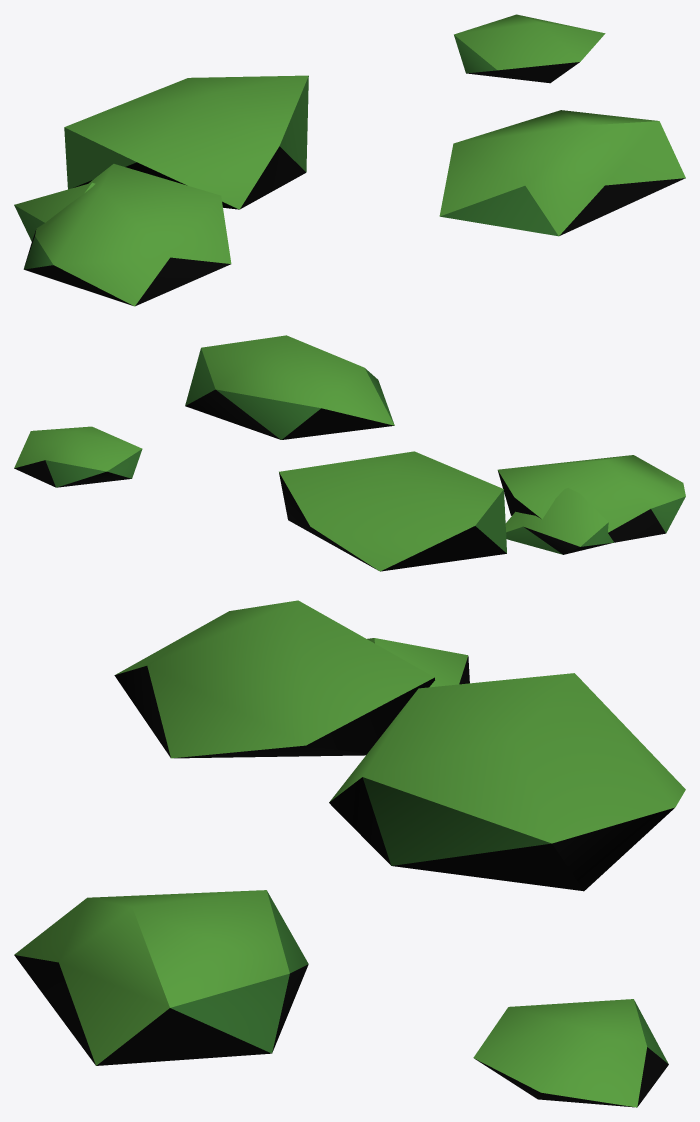
File: SwampStones.fbx
The picture shows the model from 3 angles, top to bottom: view 1: azimuth 30°, elevation 25°; view 2: azimuth 150°, elevation 25°; view 3: azimuth 270°, elevation 25°; orthographic projection. The views are drawn at different scales.
Parts seen in each view (by area): view 1: SwampStones; view 2: SwampStones; view 3: SwampStones.
Boxes of the visible parts, x1=… form: SwampStones: x1=14, y1=14, x2=685, y2=306; SwampStones: x1=14, y1=335, x2=685, y2=571; SwampStones: x1=14, y1=600, x2=685, y2=1107.
Bounding box in the file's own units: 1.19 × 0.1117 × 0.7112.
1 material, 1 textured.
